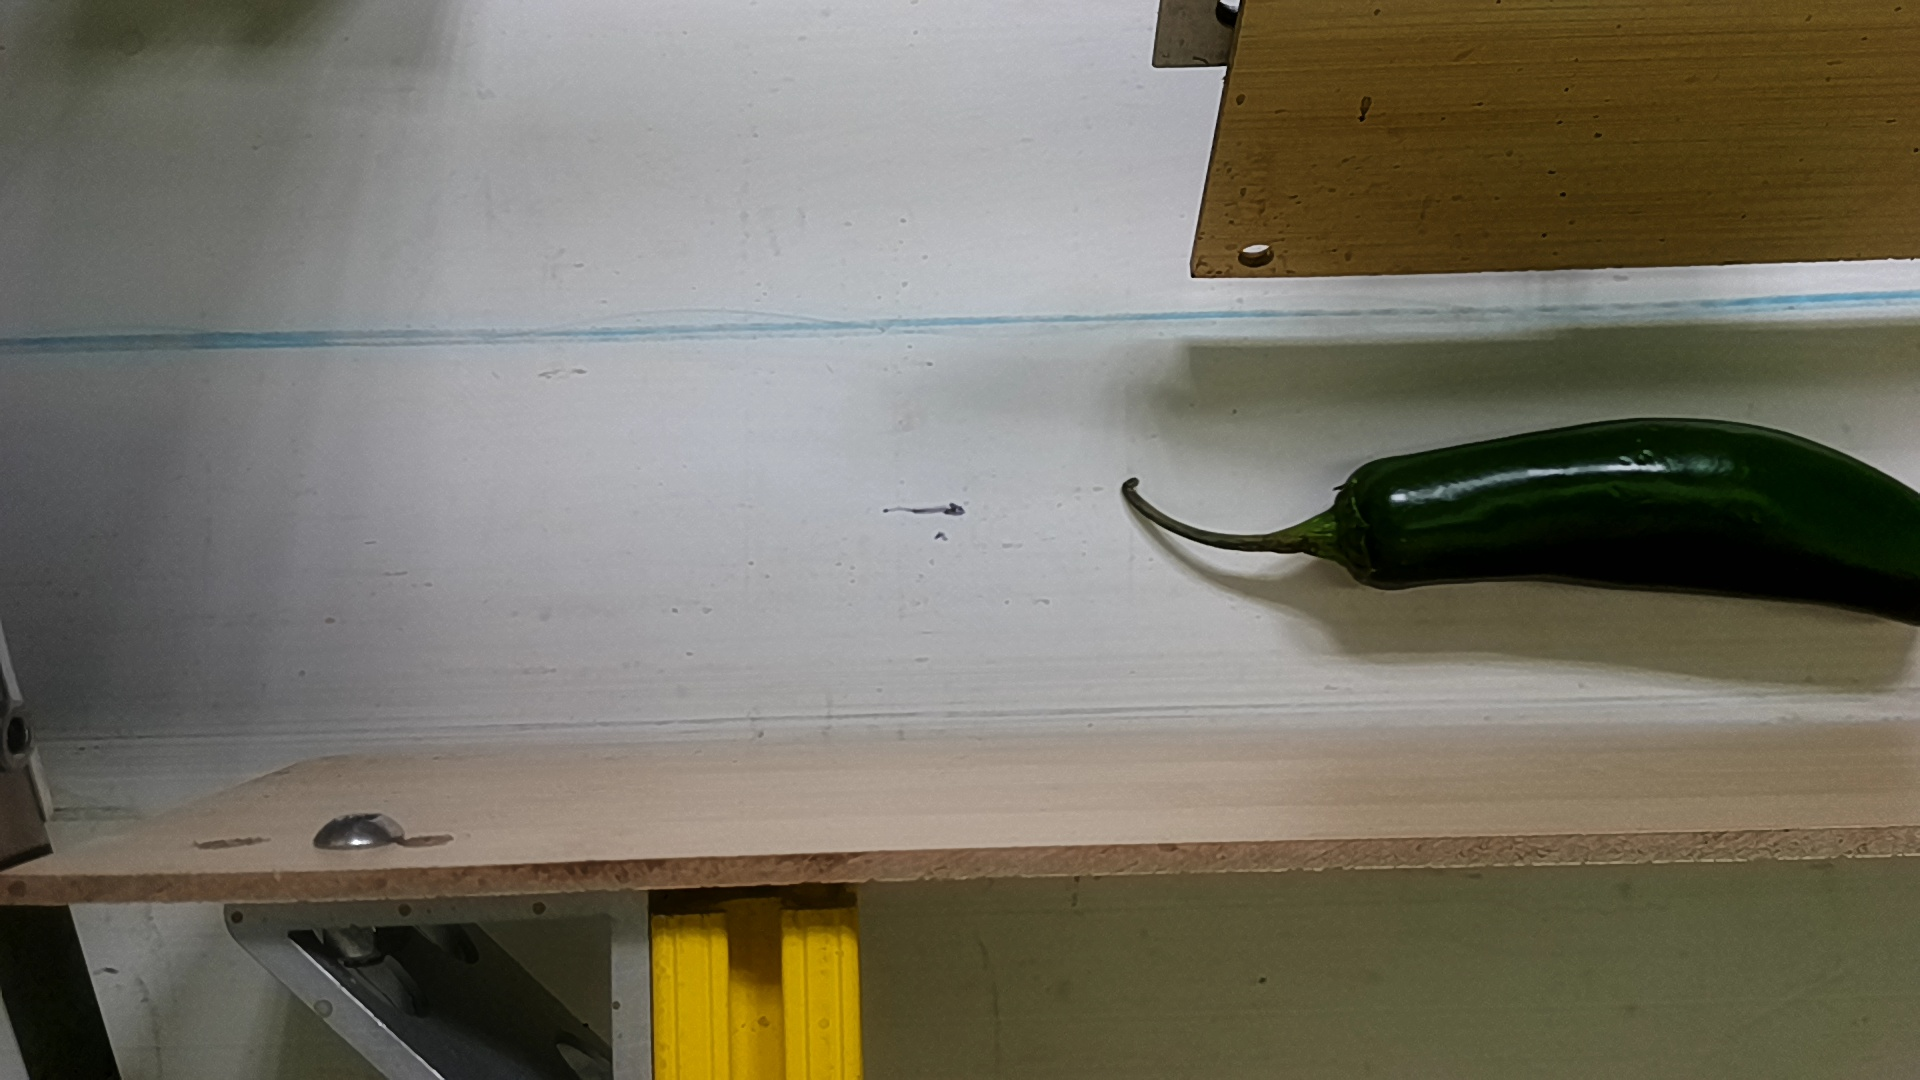Cut Point: (1317, 448, 1402, 605)
